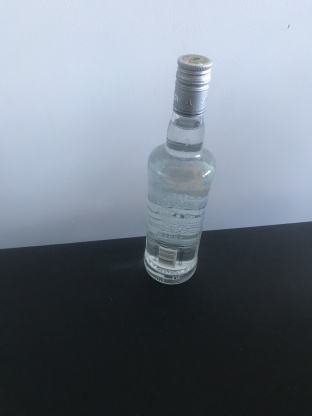nakretka: (171, 51, 213, 120)
